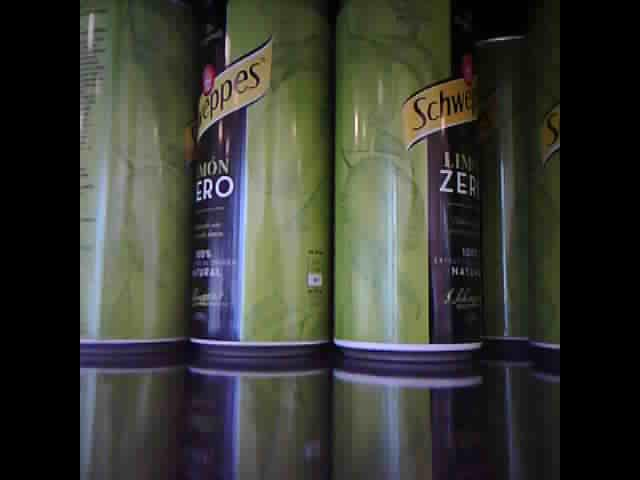schweppes: (333, 2, 485, 358), (190, 3, 333, 355), (81, 3, 191, 354), (489, 14, 529, 348), (529, 2, 561, 351)
